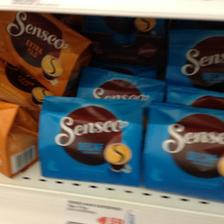Kaffee: (37, 94, 143, 184), (142, 102, 222, 202), (0, 11, 88, 92)
